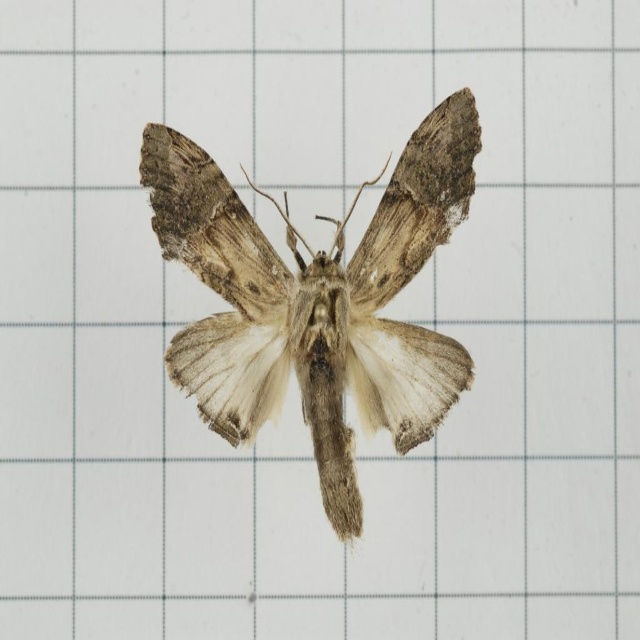Moths and butterflies: (137, 81, 482, 542)
